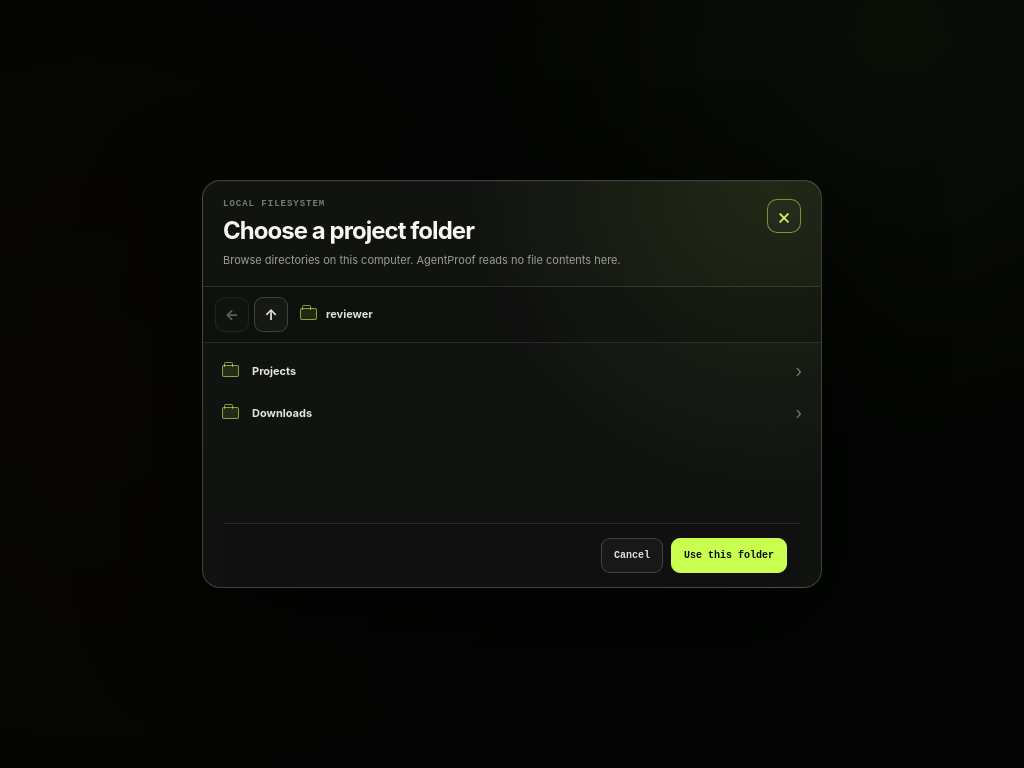
Test: DirectoryPicker › can navigate to the parent directory
The image size is (1024, 768).
Expected: the text "reviewer" is shown, x1=326 y1=307 x2=373 y2=321
Click the button named "Go to parent folder": [271, 314] box x1=254 y1=296 x2=288 y2=332
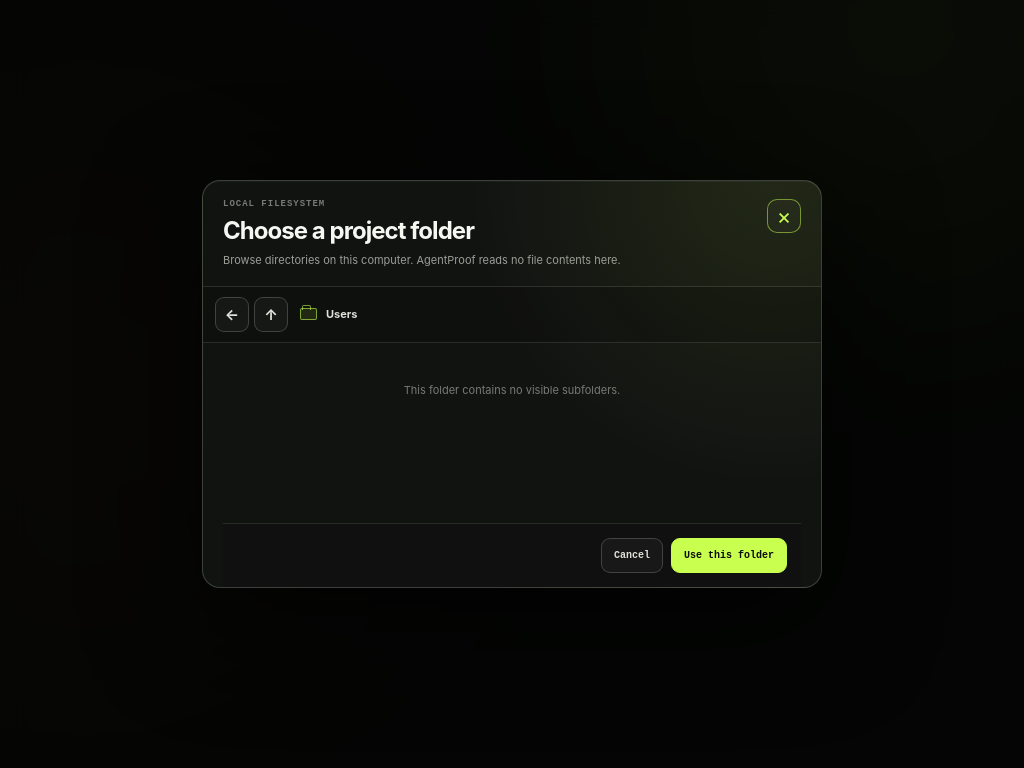
Expected: the text "Users" is shown, x1=326 y1=307 x2=357 y2=321
